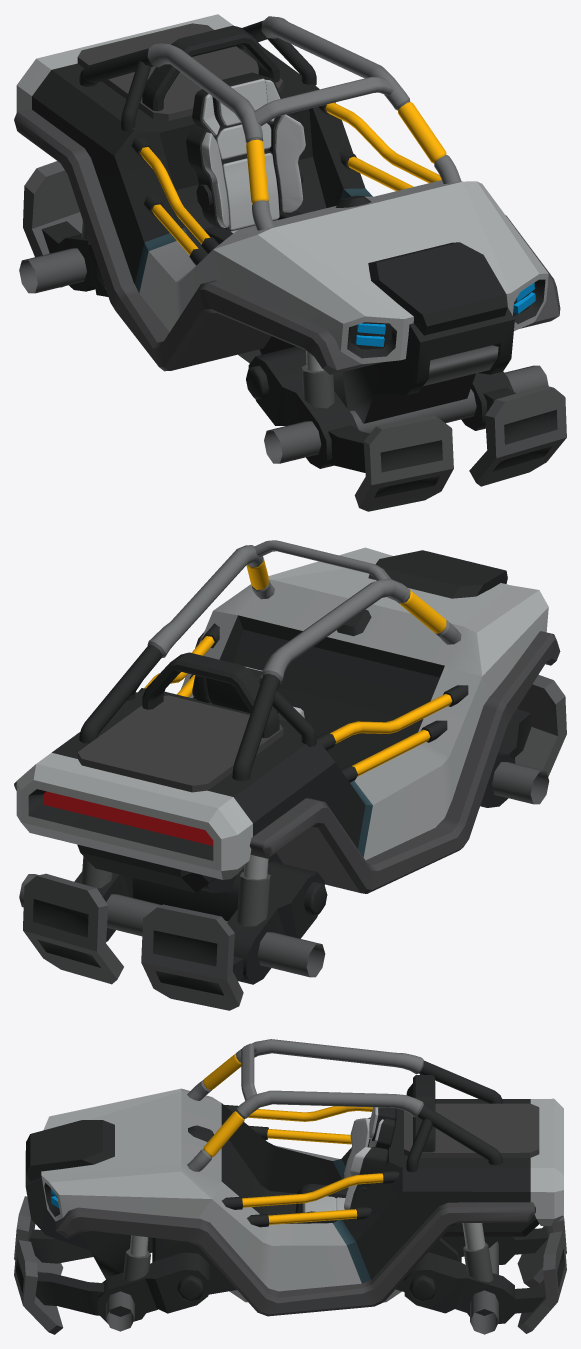
File: Buggy.fbx
3 views of the same model, one above another, from view 1: azimuth 30°, elevation 25°; view 2: azimuth 150°, elevation 25°; view 3: azimuth 270°, elevation 25° (orthographic). The views are drawn at different scales.
Parts seen in each view (by area): view 1: Buggy; view 2: Buggy; view 3: Buggy.
Boxes of the visible parts, x1,y1,x2,y2 form: Buggy: (14,14,566,511); Buggy: (14,540,566,1010); Buggy: (14,1039,566,1334).
Bounding box in the file's own units: 234 × 475 × 228.
